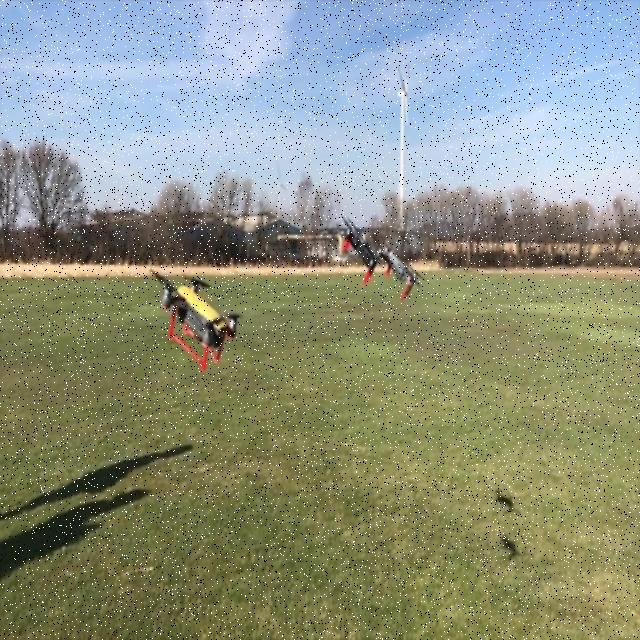UAV: (150, 268, 244, 372), (370, 235, 426, 302), (340, 214, 384, 286)
